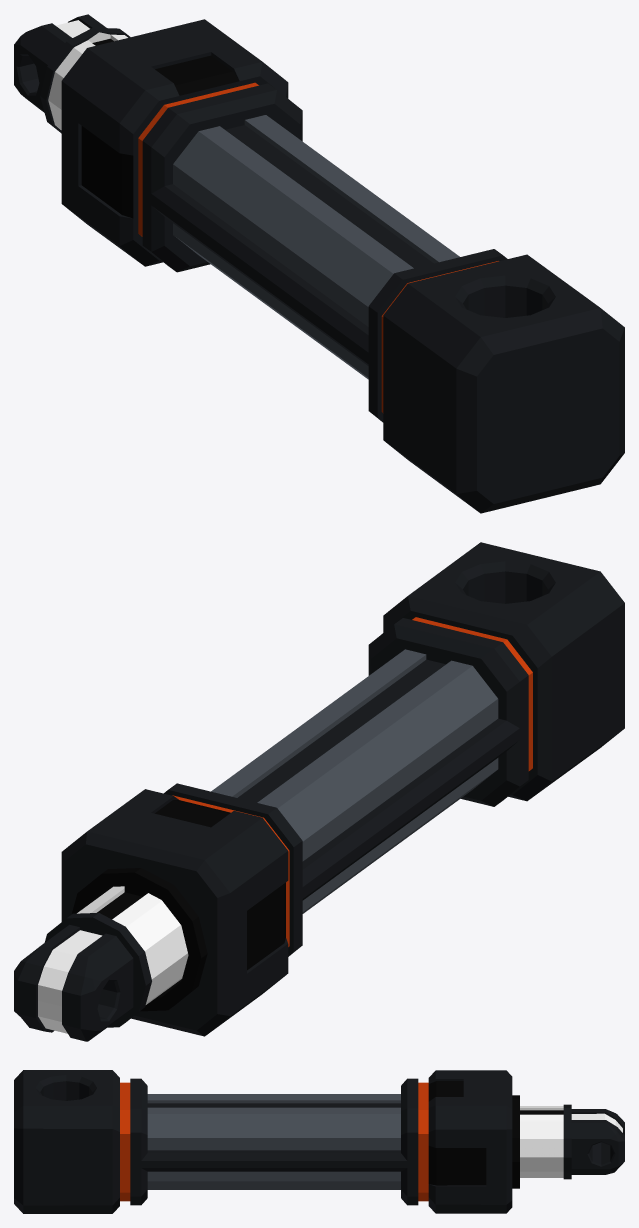
The model's file is SM_Hydraulic_Piston.obj.
The picture shows the model from 3 angles, top to bottom: view 1: azimuth 30°, elevation 25°; view 2: azimuth 150°, elevation 25°; view 3: azimuth 270°, elevation 25°; orthographic projection. The views are drawn at different scales.
Parts seen in each view (by area): view 1: SM_Hydraulic_Piston_Body, SM_Hydraulic_Piston_Head; view 2: SM_Hydraulic_Piston_Body, SM_Hydraulic_Piston_Head; view 3: SM_Hydraulic_Piston_Body, SM_Hydraulic_Piston_Head.
Part boxes in pixels (x1,y1,x2,y2): SM_Hydraulic_Piston_Body: (61,19,624,513); SM_Hydraulic_Piston_Head: (14,14,130,133); SM_Hydraulic_Piston_Body: (61,542,624,1036); SM_Hydraulic_Piston_Head: (14,886,188,1041); SM_Hydraulic_Piston_Body: (14,1070,519,1213); SM_Hydraulic_Piston_Head: (520,1104,624,1179).
Bounding box in the file's own units: 0.1335 × 0.1335 × 0.6843.
